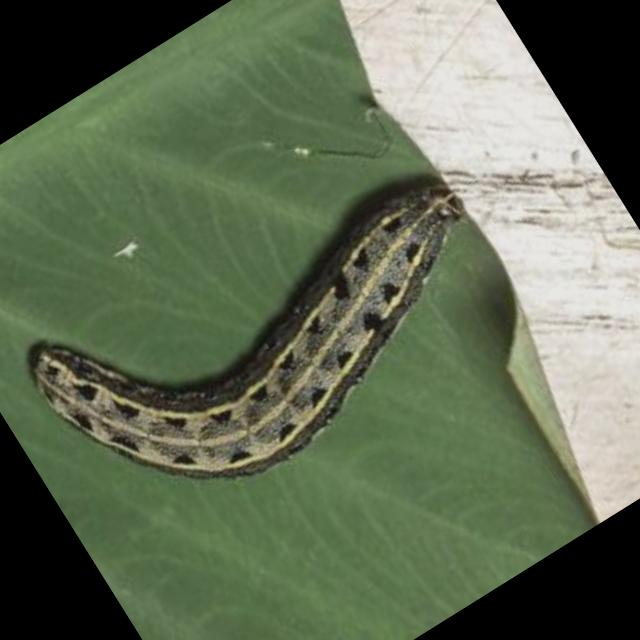Tobacco cutworm: (0, 21, 611, 619)
